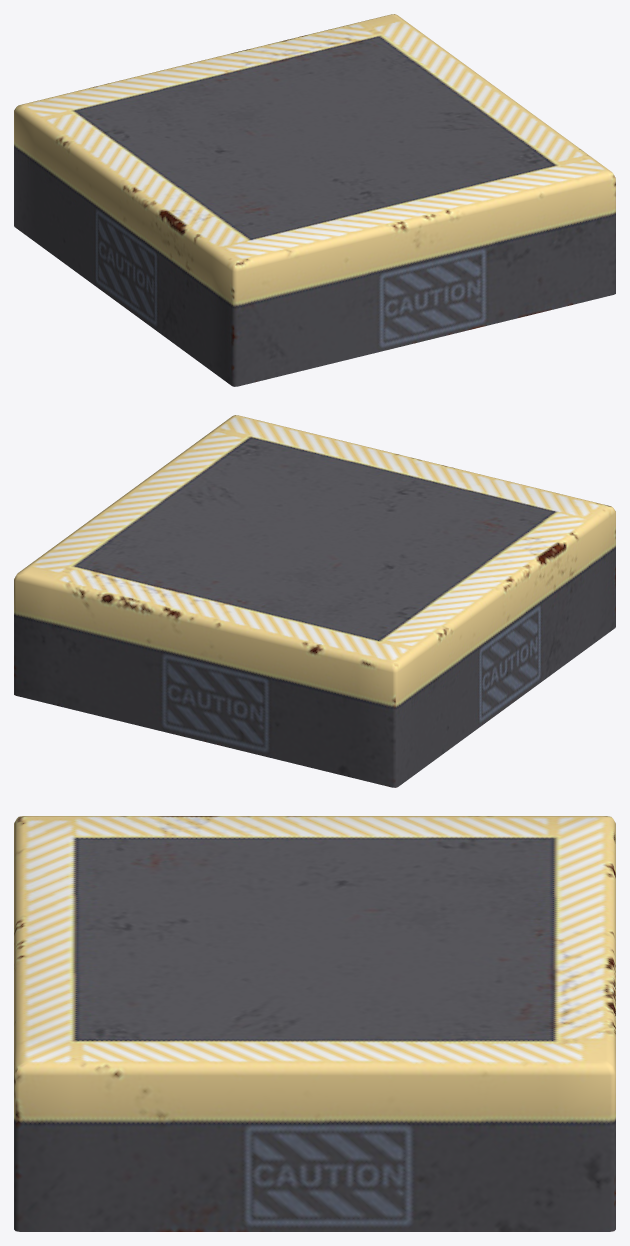
The model's file is red_button_bottom.gltf.
3 renders of one model, top to bottom at view 1: azimuth 30°, elevation 25°; view 2: azimuth 150°, elevation 25°; view 3: azimuth 270°, elevation 25°, orthographic. The views are drawn at different scales.
Parts seen in each view (by area): view 1: bottom; view 2: bottom; view 3: bottom.
Boxes of the visible parts, bbox=[...] form: bottom: bbox=[14, 14, 615, 386]; bottom: bbox=[14, 415, 615, 787]; bottom: bbox=[14, 816, 615, 1231].
Bounding box in the file's own units: 0.4595 × 0.1391 × 0.4595.
Materials: 1 (1 with a texture image).
